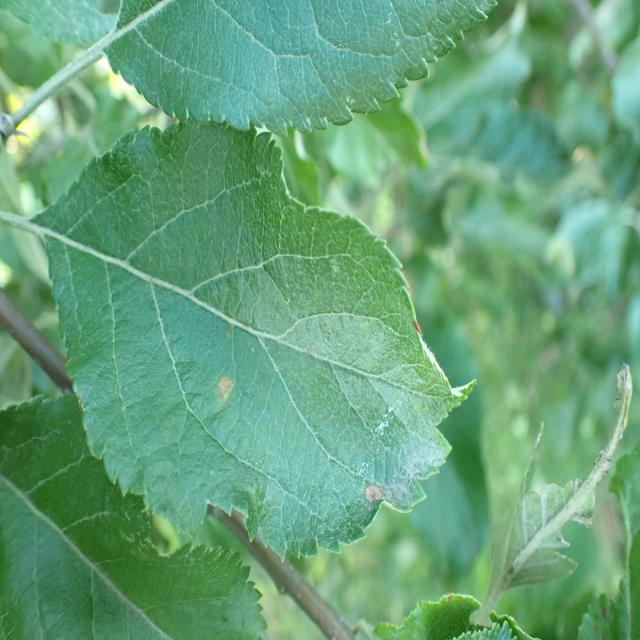Black Rot: (212, 369, 240, 423), (358, 475, 390, 521)
